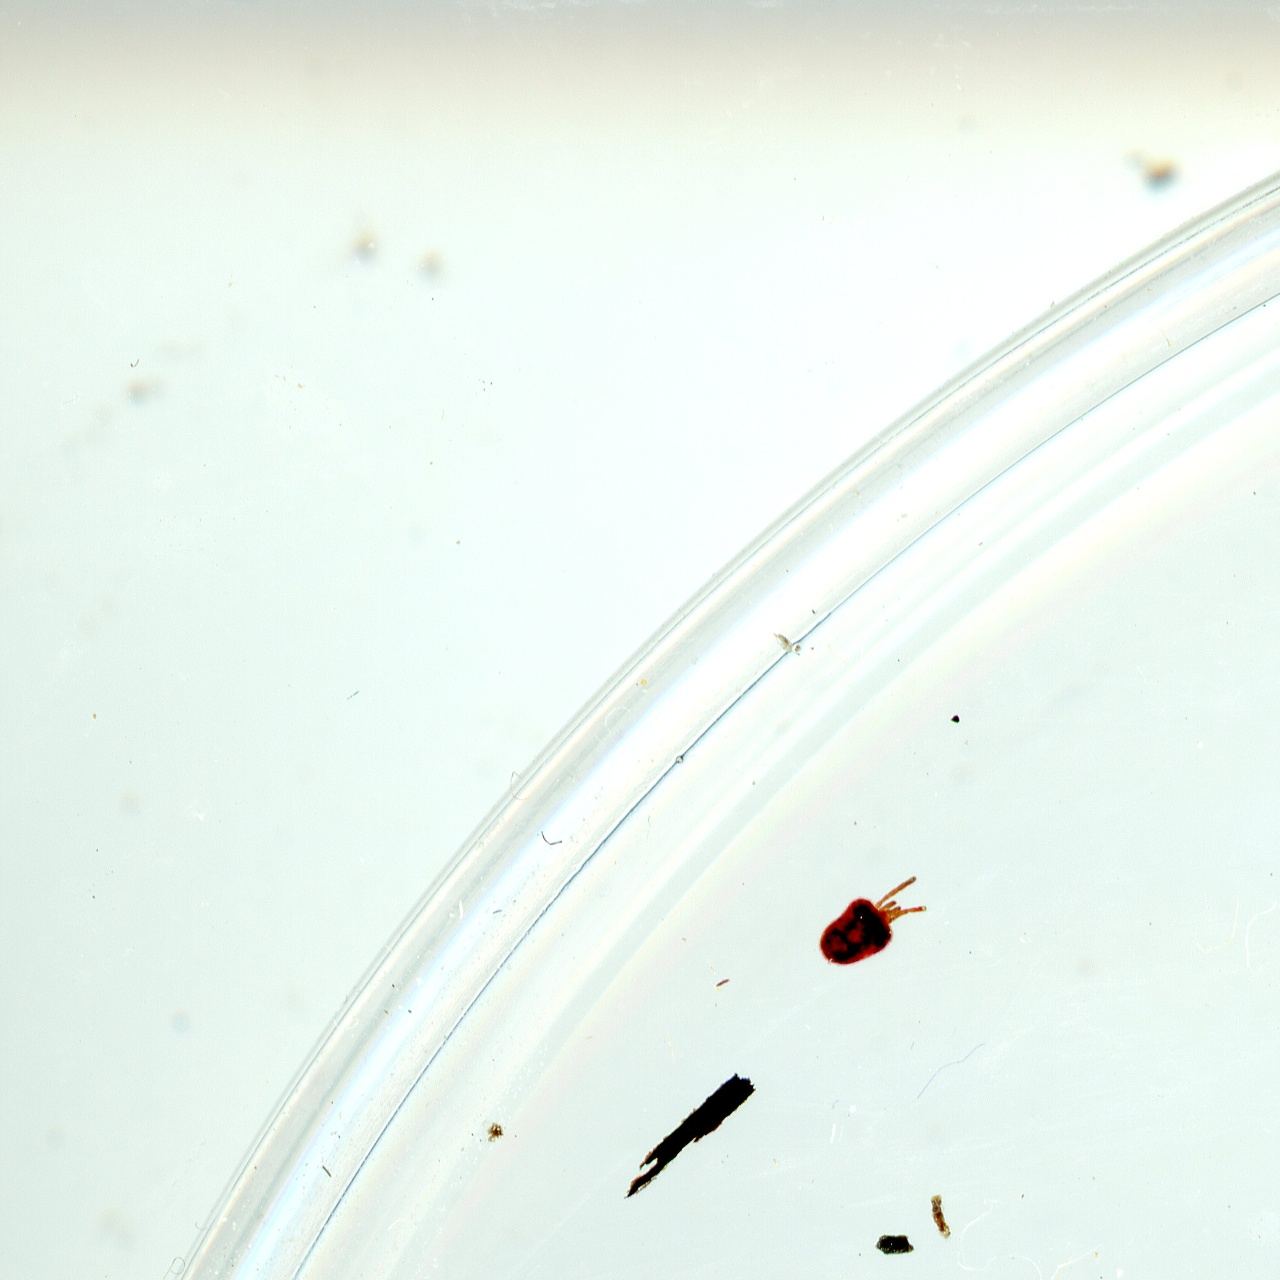arthropod: (811, 860, 931, 973)
